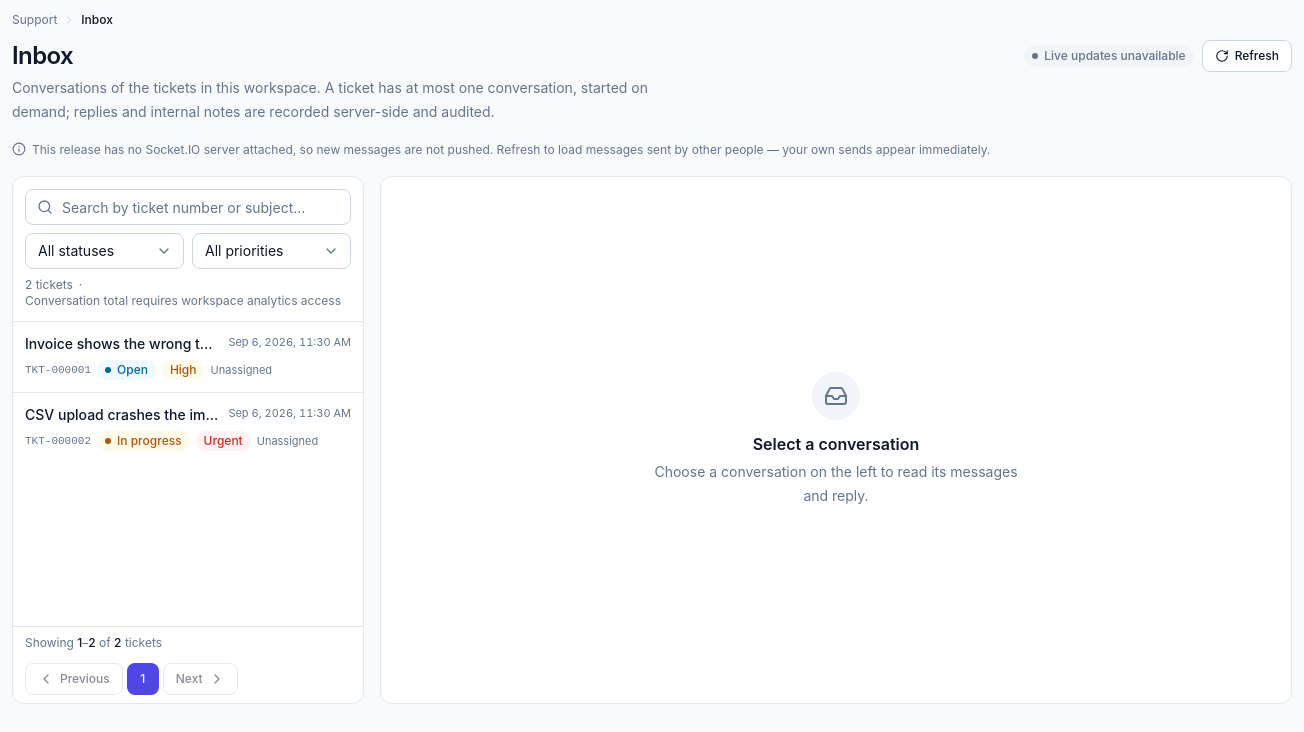
it: InboxPage › withholds the composer for an agent outside the ticket assignment cap
What coordinates should you click on to do the following:
click the button "Invoice shows the wrong total"
I would click on:
 (188, 357)
Its box is [13,322,363,392].
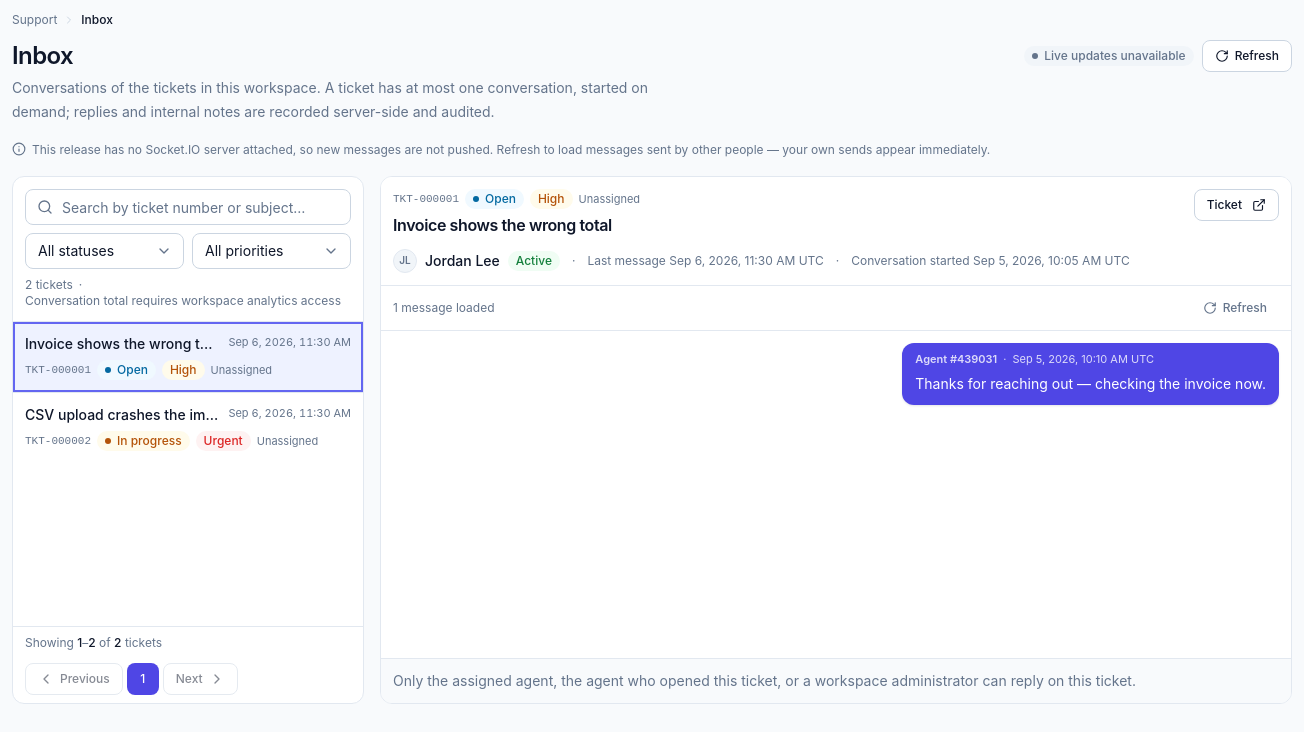
Check: the text "Thanks for reaching out — checking the invoice now." is shown, box [915,372,1266,396]
Check: the text "Only the assigned agent, the agent who opened this ticket" is shown, box [393,672,1136,689]
